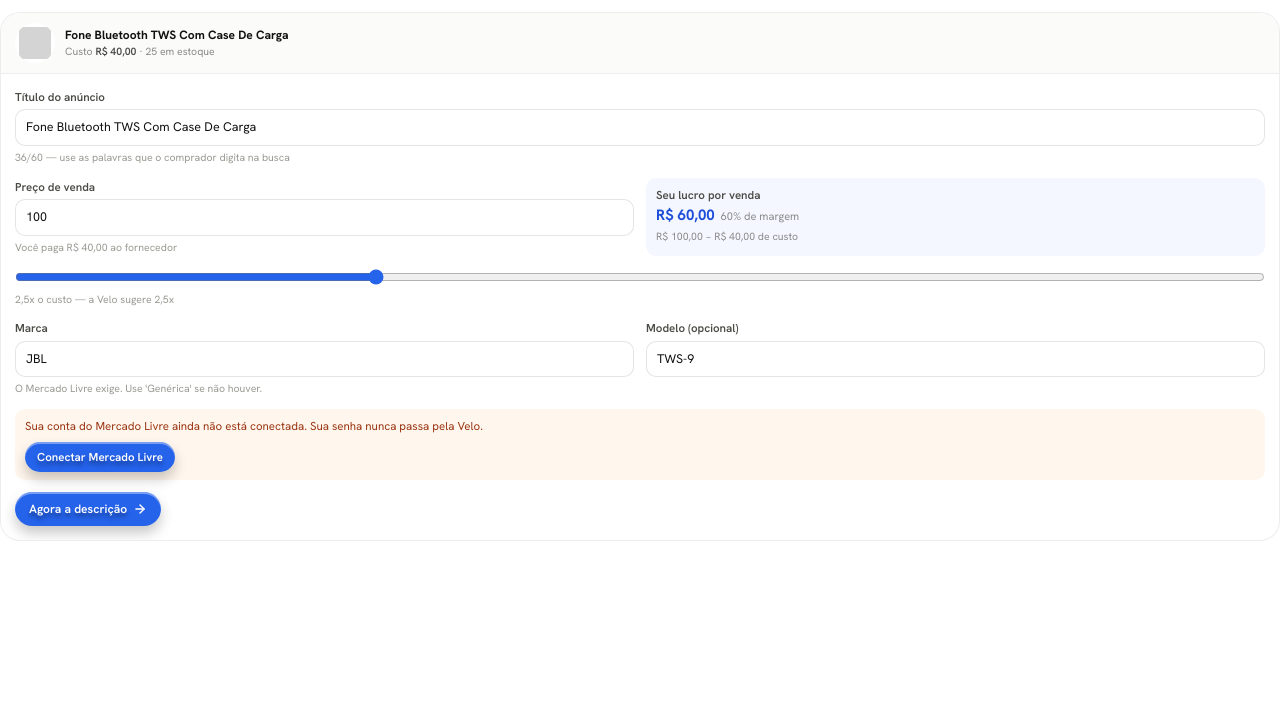
Scenario: AtlasPublishComposer › bloqueia a publicação e oferece conectar quando não há conta do Mercado Livre
Check: the field showing "Fone Bluetooth TWS" is shown, box [15, 109, 1265, 146]
Check: the button "Conectar Mercado Livre" is shown, box [25, 442, 175, 472]
What coordinates should you click on to do the following:
click the button "Agora a descrição"
I would click on:
 (88, 508)
Its box is [15, 492, 161, 526].
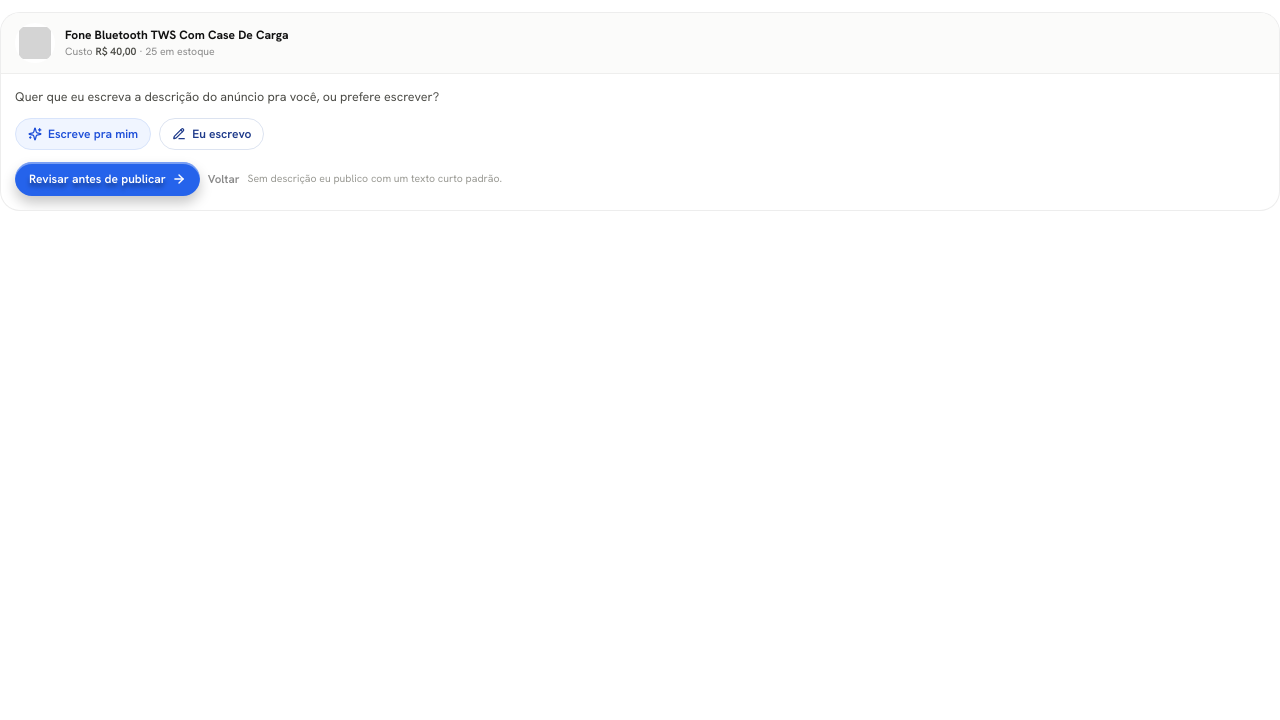
What coordinates should you click on to do the following:
click the button "Revisar antes de publicar"
I would click on:
 (107, 179)
Its box is [15, 162, 200, 196].
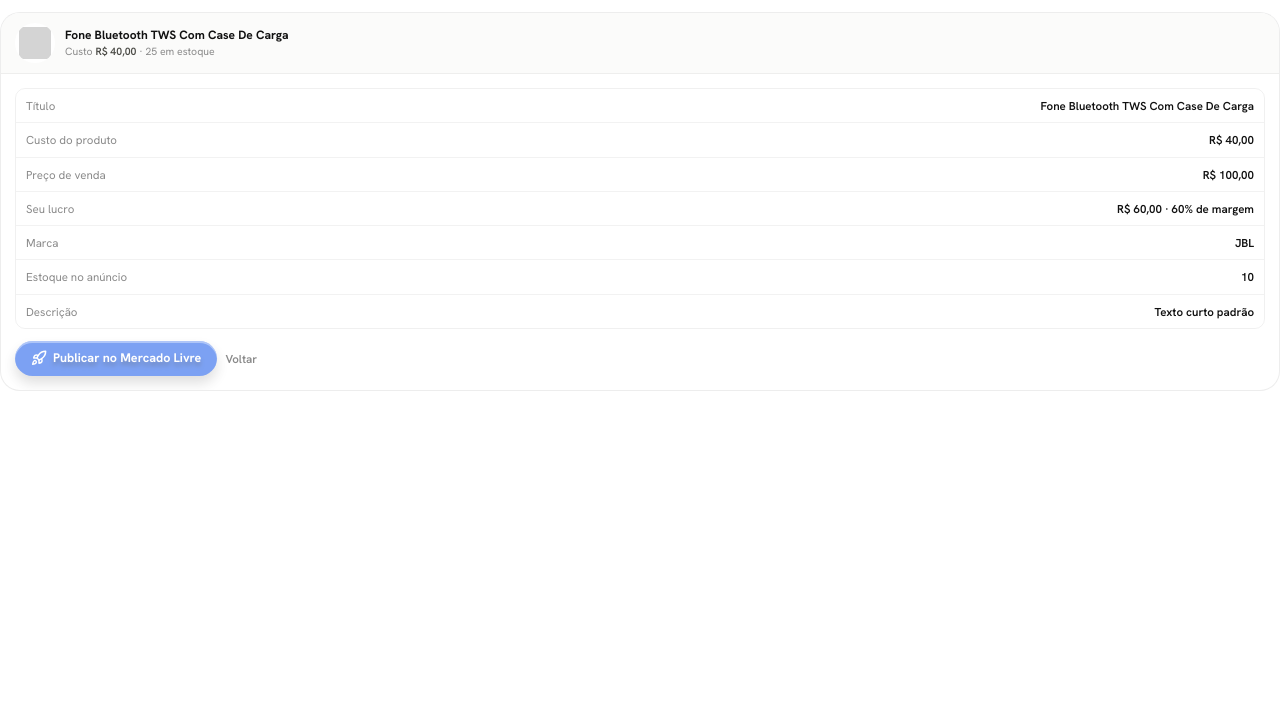
Check: the button "Publicar no Mercado Livre" is disabled, box [15, 341, 217, 376]
